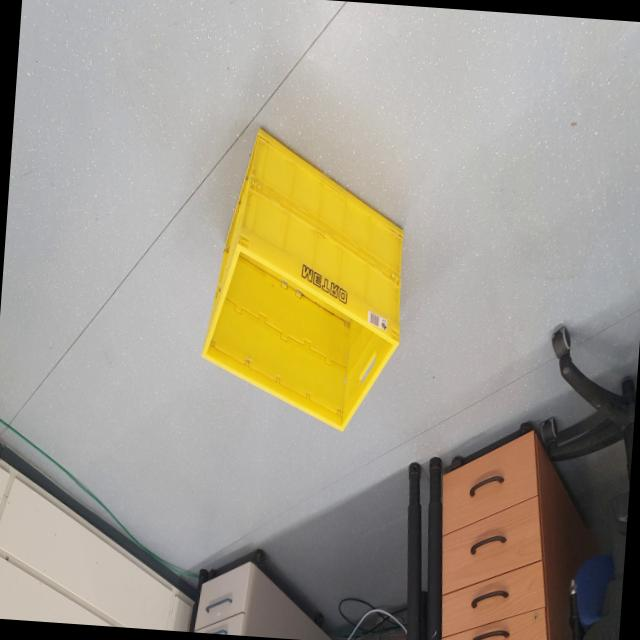box: (180, 94, 439, 460)
